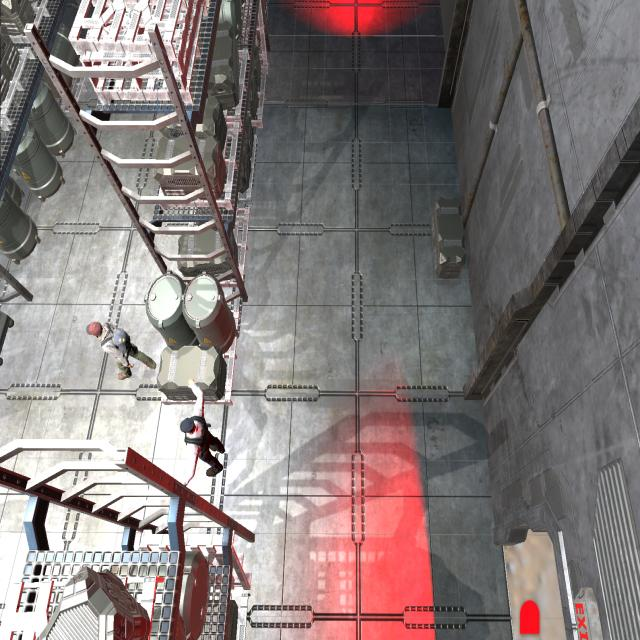thiefs: (82, 319, 159, 382)
